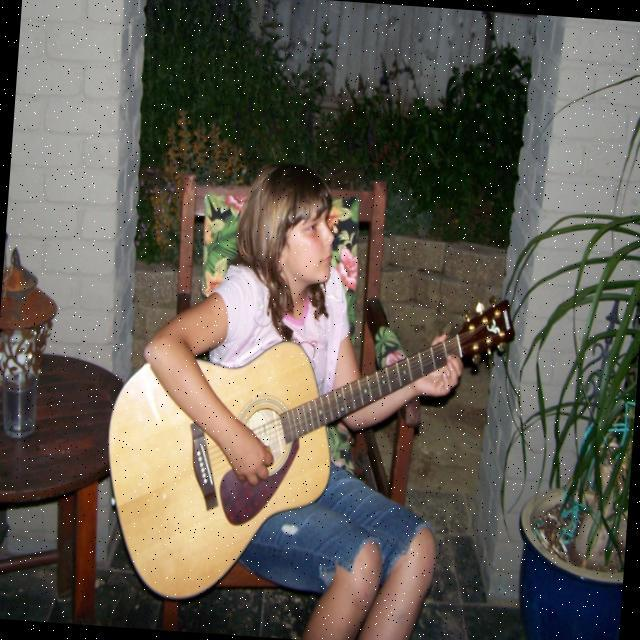acousticguitar: (109, 301, 512, 598)
